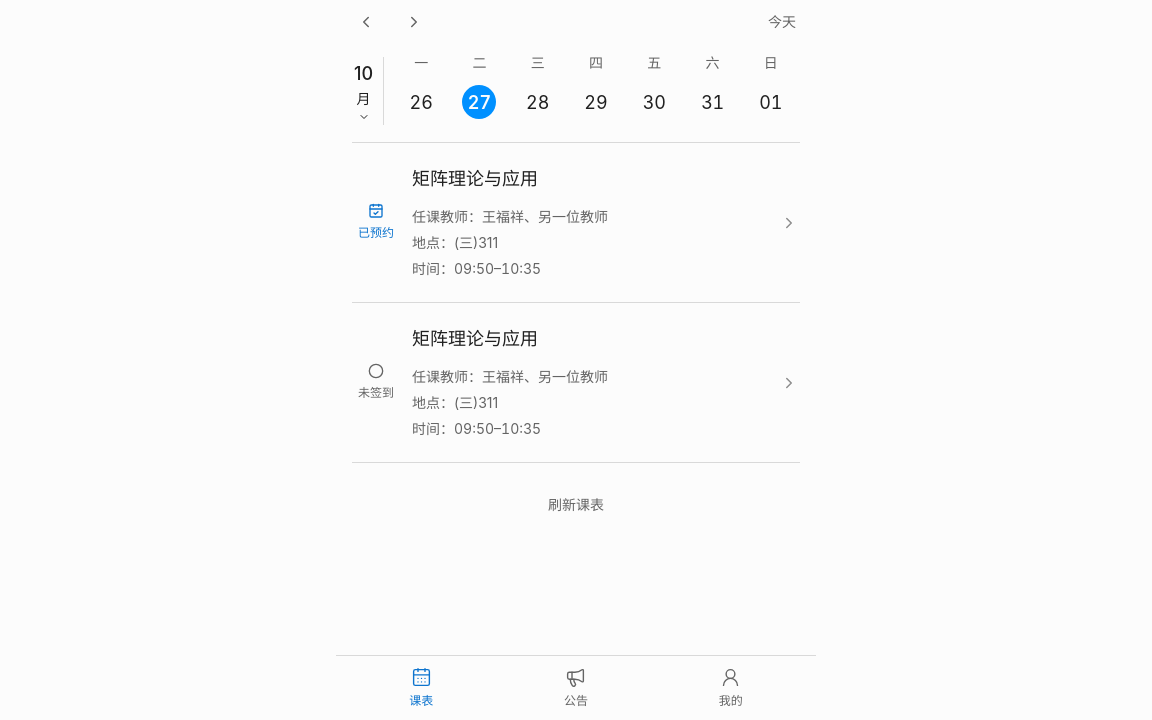
mobile routes and course interactions › signed=false reserved=true › renders the detail status and decorative icon
Click the button "已预约 矩阵理论与应用 任课教师：王福祥、另一位教师 地点：(三)311 时间：09:50–10:35": (576, 223) top-left (352, 143), bottom-right (800, 302)
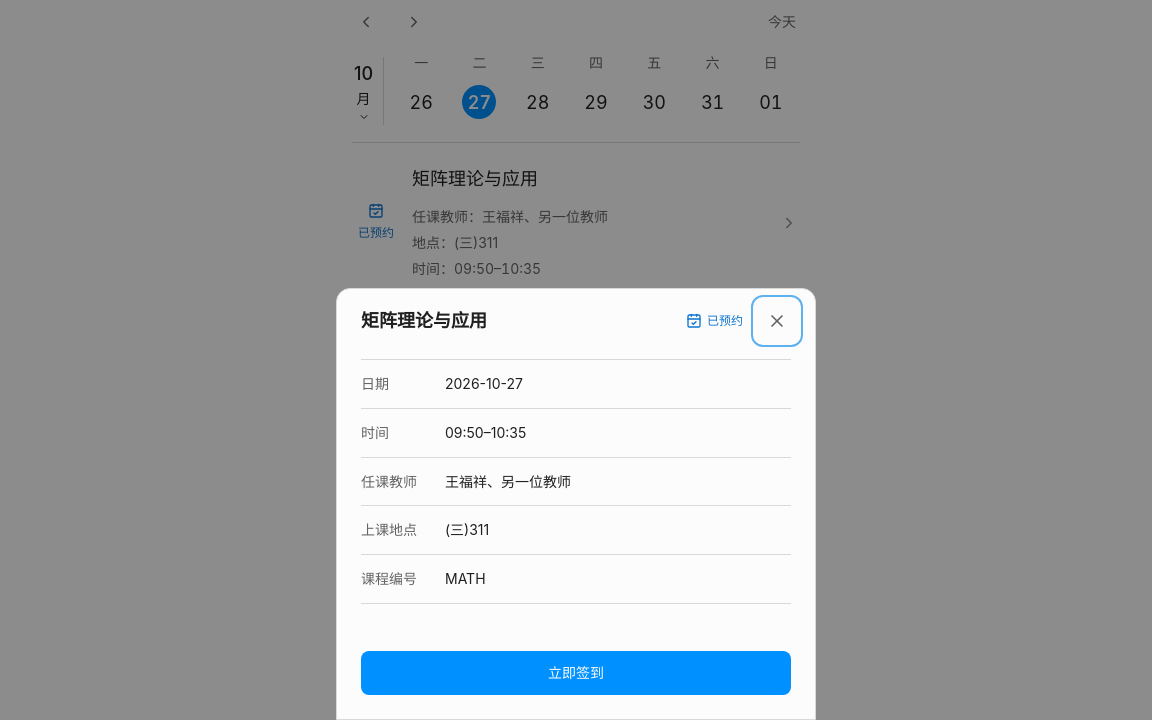
Expected: the element with class "detail-status" reads "已预约", top-left (707, 313), bottom-right (743, 328)
Expected: the button "立即签到" is enabled, top-left (361, 651), bottom-right (791, 695)
